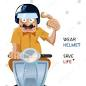helmets: (12, 4, 44, 26)
